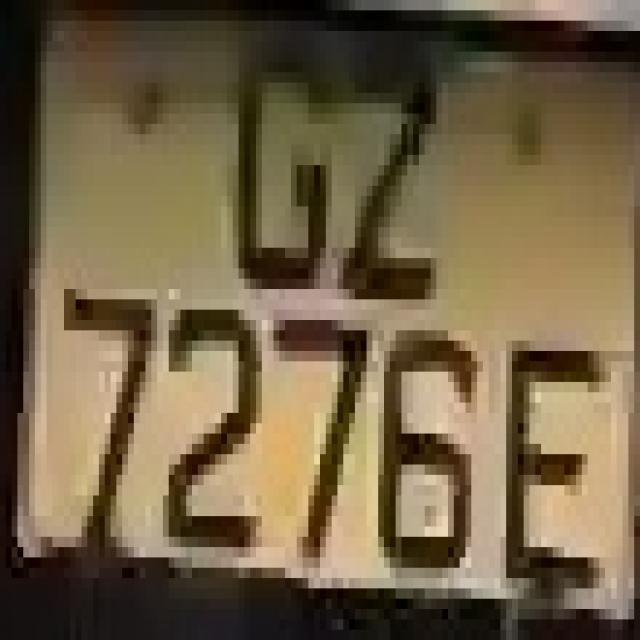2: (157, 279, 274, 557)
6: (378, 289, 489, 599)
7: (262, 248, 372, 588), (46, 258, 168, 557)
E: (495, 330, 605, 620)
G: (215, 31, 344, 299)
Z: (332, 31, 459, 330)
